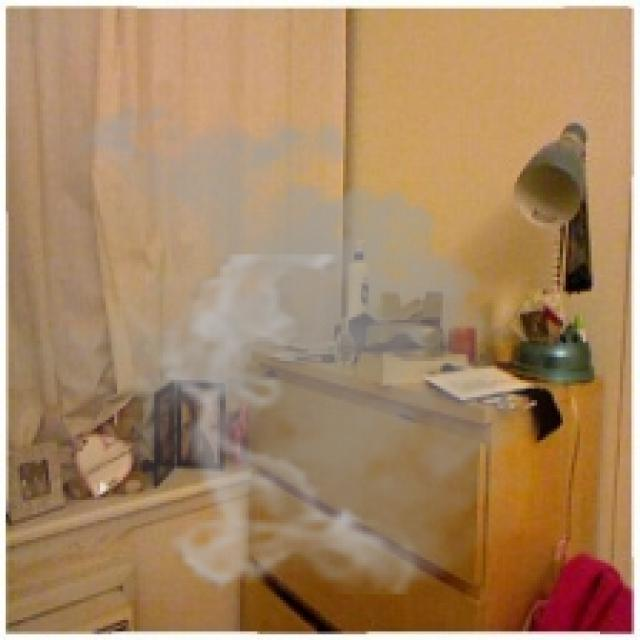smoke: (14, 86, 557, 600)
